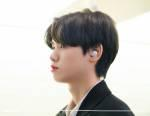earphone: (90, 49, 101, 59)
